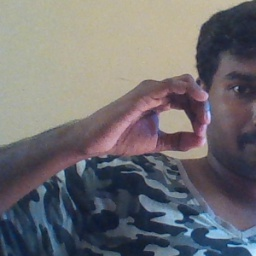O: (89, 72, 214, 164)
